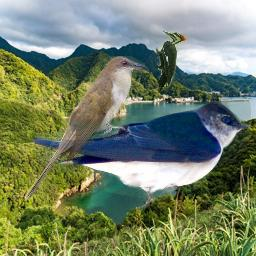Cuckoo: (25, 56, 149, 200)
Swallow: (30, 101, 251, 210)
Woodpecker: (156, 31, 187, 92)
